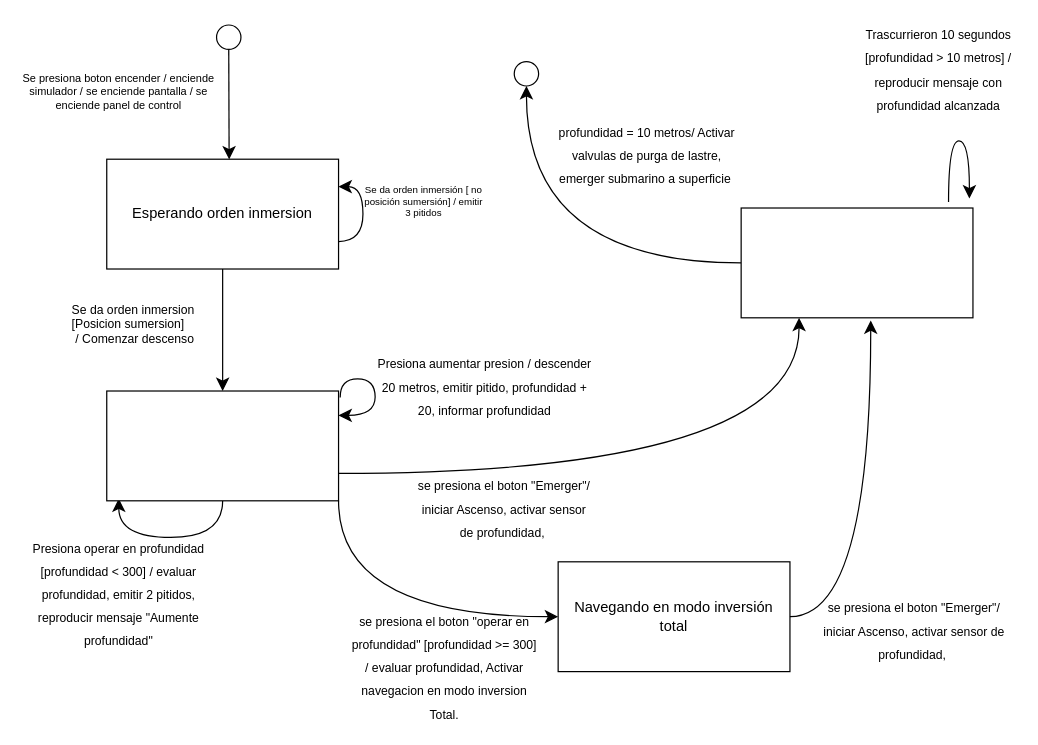
The diagram is 1038 pixels wide and 745 high, and some of its shapes have lost their labels. Each missing label, with the centre of its shape:
Ascendiendo: the point at 856,262
Descendiendo profundidad: the point at 222,445
